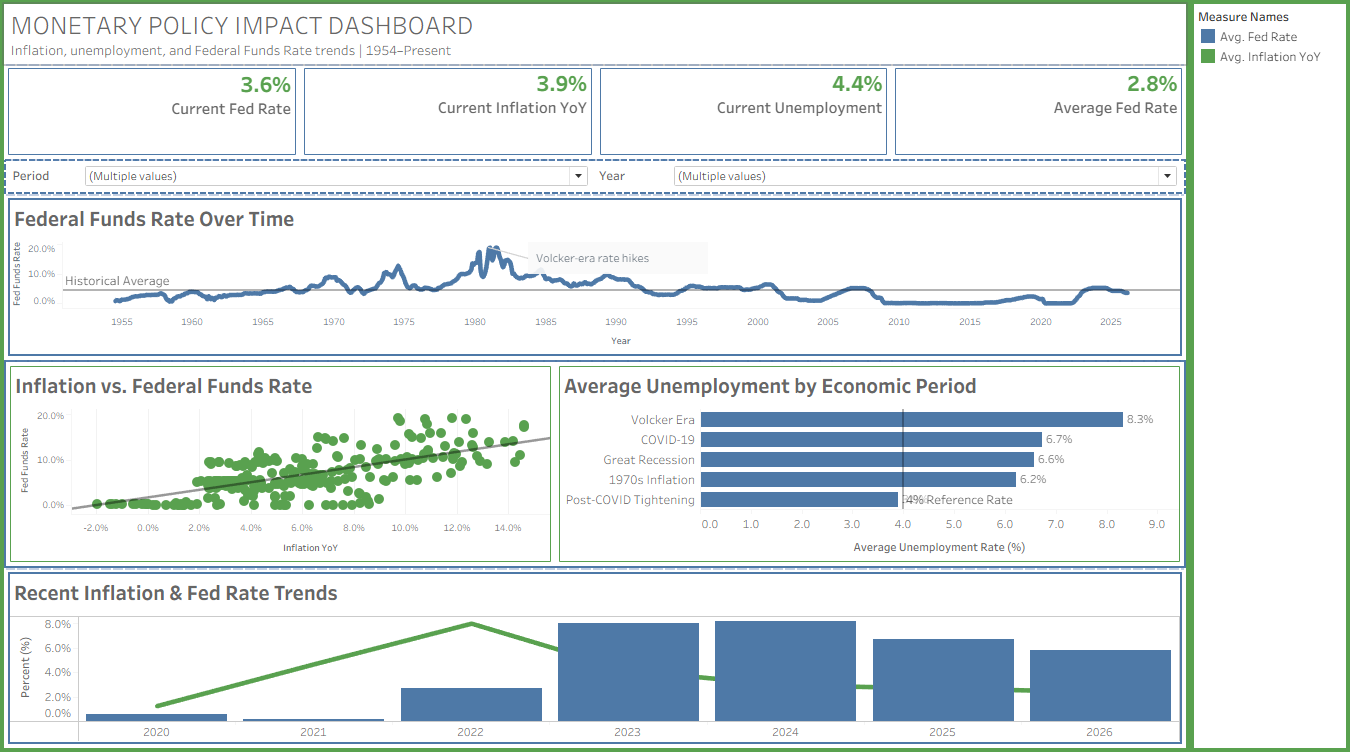

What the dashboard file says about the page in this screenshot:
{"tool":"tableau","page":{"name":"Monetary Policy Impact Dashboard","canvas":[1366,768],"ordinal":0},"visuals":[{"type":"text","box":[12,12,1181.9,60]},{"type":"legend","title":"Recent Inflation & Fed Rate Trends","param":"[federated.0asq73e1klh4pj181gluc04df260].[:Measure Names]","box":[1202,12,152,66]},{"type":"worksheet","title":"KPI - Fed Rate Number","mark":"Automatic","box":[12,72,296,95]},{"type":"worksheet","title":"KPI - Inflation Number","mark":"Automatic","box":[308,72,296,95]},{"type":"worksheet","title":"KPI - Unemployment Number","mark":"Automatic","box":[604,72,295,95]},{"type":"worksheet","title":"KPI - Average Fed Rate","mark":"Automatic","box":[899,72,295,95]},{"type":"filter","title":"Average Unemployment by Economic Period","param":"[federated.0asq73e1klh4pj181gluc04df260].[none:Calculation_2120170083311616:nk]","box":[14,169,589,31]},{"type":"filter","title":"Recent Inflation & Fed Rate Trends","param":"[federated.0asq73e1klh4pj181gluc04df260].[yr:Date (copy)_2120170101309441:ok]","box":[603,169,589,31]},{"type":"worksheet","title":"Fed Rate Trend","mark":"Line","rows":["Fed Rate"],"cols":["Calculation_0001151638573213"],"box":[12,202,1181.9,166]},{"type":"worksheet","title":"Inflation vs Fed Rate","mark":"Circle","rows":["Fed Rate"],"cols":["Inflation YoY"],"box":[14,370,549,204]},{"type":"worksheet","title":"Average Unemployment by Economic Period","mark":"Bar","rows":["Calculation_2120170083311616"],"cols":["Unemployment"],"box":[563,370,629,204]},{"type":"worksheet","title":"Recent Inflation & Fed Rate Trends","mark":"Line","rows":["Inflation YoY","Fed Rate"],"cols":["Date"],"box":[12,576,1181.9,180]}]}

Visuals, with their boxes in screenshot pixels (x1, y1, x2, y2), scaled from the page's 1366x768 canvas onto the 1350x754 screenshot:
text: <region>12, 12, 1180, 71</region>
"Recent Inflation & Fed Rate Trends" legend: <region>1188, 12, 1338, 77</region>
"KPI - Fed Rate Number" worksheet: <region>12, 71, 304, 164</region>
"KPI - Inflation Number" worksheet: <region>304, 71, 597, 164</region>
"KPI - Unemployment Number" worksheet: <region>597, 71, 888, 164</region>
"KPI - Average Fed Rate" worksheet: <region>888, 71, 1180, 164</region>
"Average Unemployment by Economic Period" filter: <region>14, 166, 596, 196</region>
"Recent Inflation & Fed Rate Trends" filter: <region>596, 166, 1178, 196</region>
"Fed Rate Trend" worksheet (Line marks): <region>12, 198, 1180, 361</region>
"Inflation vs Fed Rate" worksheet (Circle marks): <region>14, 363, 556, 564</region>
"Average Unemployment by Economic Period" worksheet (Bar marks): <region>556, 363, 1178, 564</region>
"Recent Inflation & Fed Rate Trends" worksheet (Line marks): <region>12, 566, 1180, 742</region>
